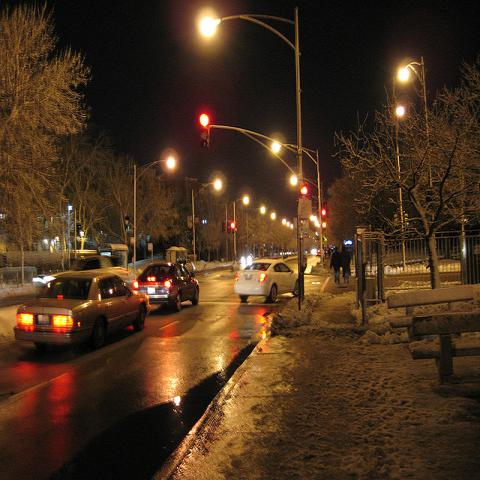car: (13, 269, 150, 345), (133, 262, 201, 311), (234, 258, 300, 303), (241, 253, 254, 264)
